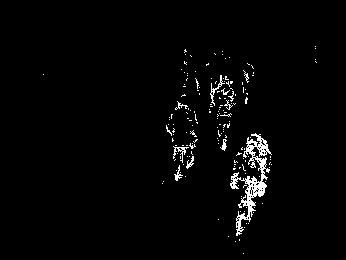person: (165, 92, 199, 182), (207, 74, 236, 154)
